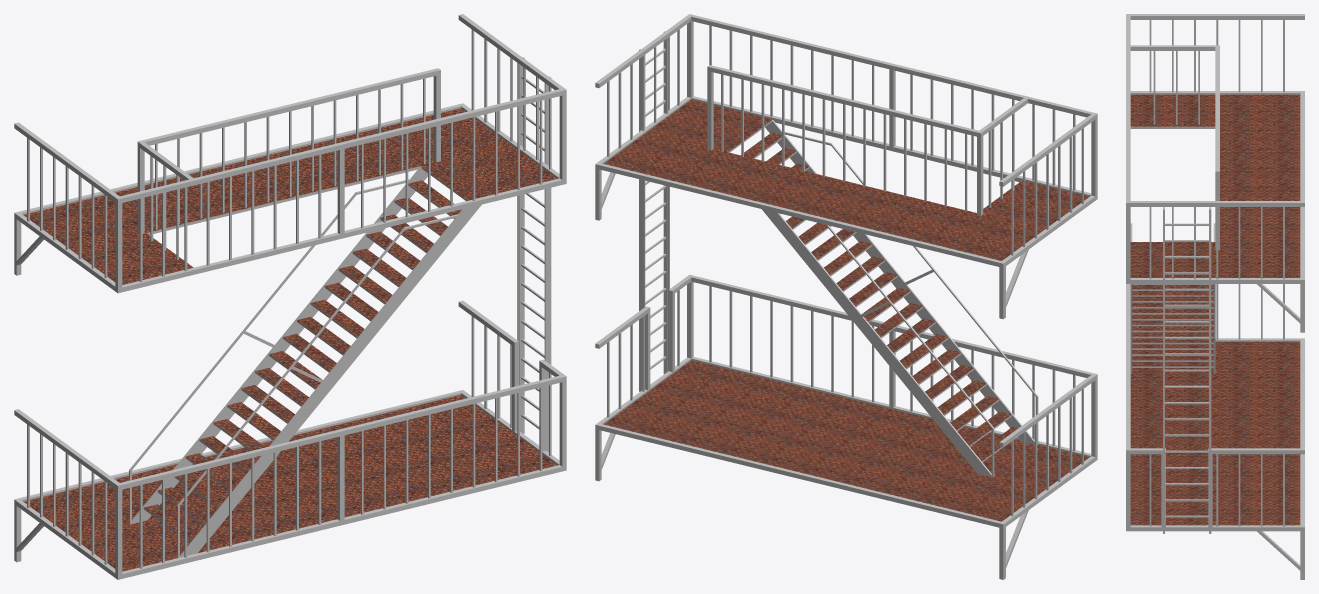
The picture shows the model from 3 angles, left to right: view 1: azimuth 30°, elevation 25°; view 2: azimuth 150°, elevation 25°; view 3: azimuth 270°, elevation 25°; orthographic projection. The views are drawn at different scales.
Visible parts, largest first — view 1: Base, Ladder; view 2: Base, Ladder; view 3: Base, Ladder.
Part boxes in pixels (bbox=[...]): Base: bbox=[14, 14, 566, 579]; Ladder: bbox=[519, 57, 549, 433]; Base: bbox=[595, 14, 1097, 579]; Ladder: bbox=[640, 31, 667, 373]; Base: bbox=[1126, 14, 1304, 579]; Ladder: bbox=[1164, 207, 1210, 533].
Size of the model in its own units: 507 by 465 by 200.
